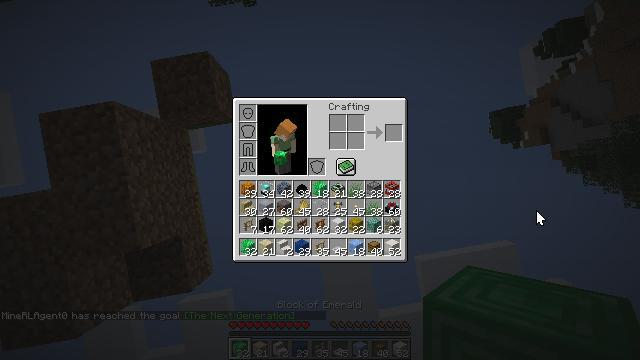cursor: (536, 210, 546, 226)
